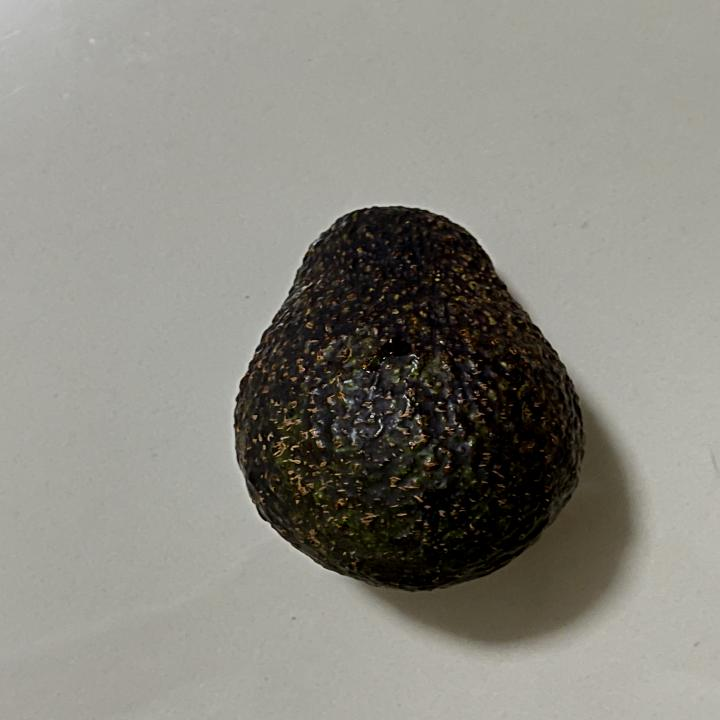Level1: (197, 189, 596, 599)
